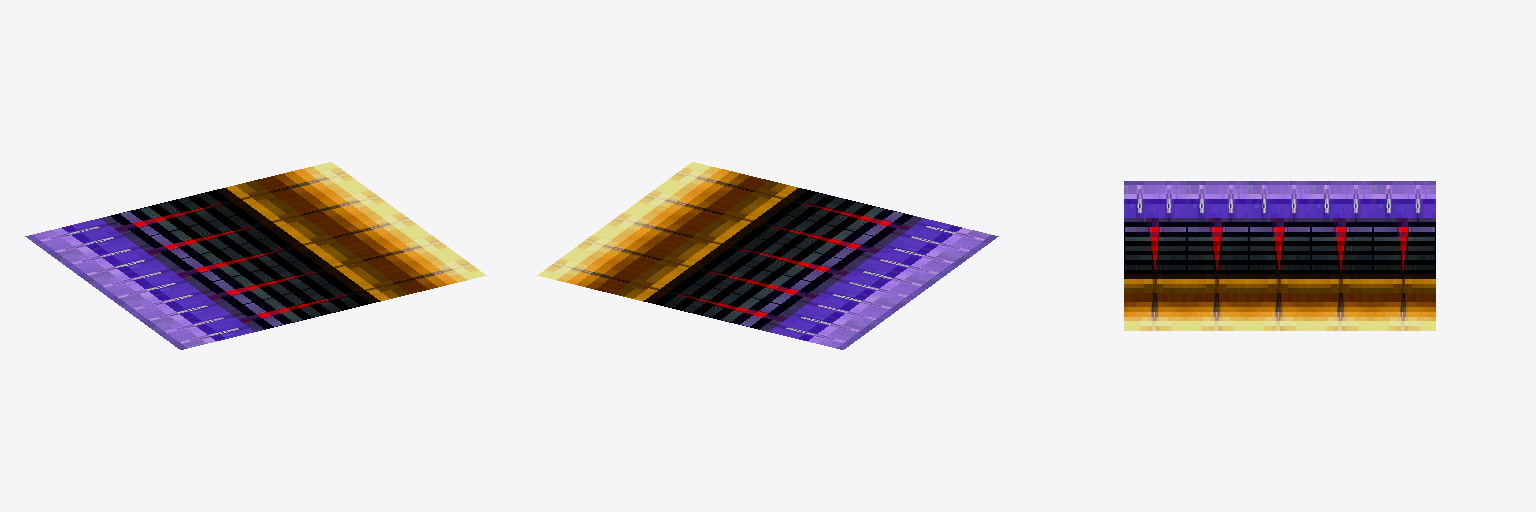
3 views of the same model, side by side, from view 1: azimuth 30°, elevation 25°; view 2: azimuth 150°, elevation 25°; view 3: azimuth 270°, elevation 25° (orthographic).
Bounding box in the file's own units: 72.2 × 0 × 63.5.
Materials: 1 (1 with a texture image).